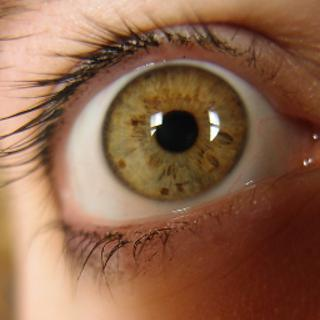pupil: (154, 109, 197, 153)
